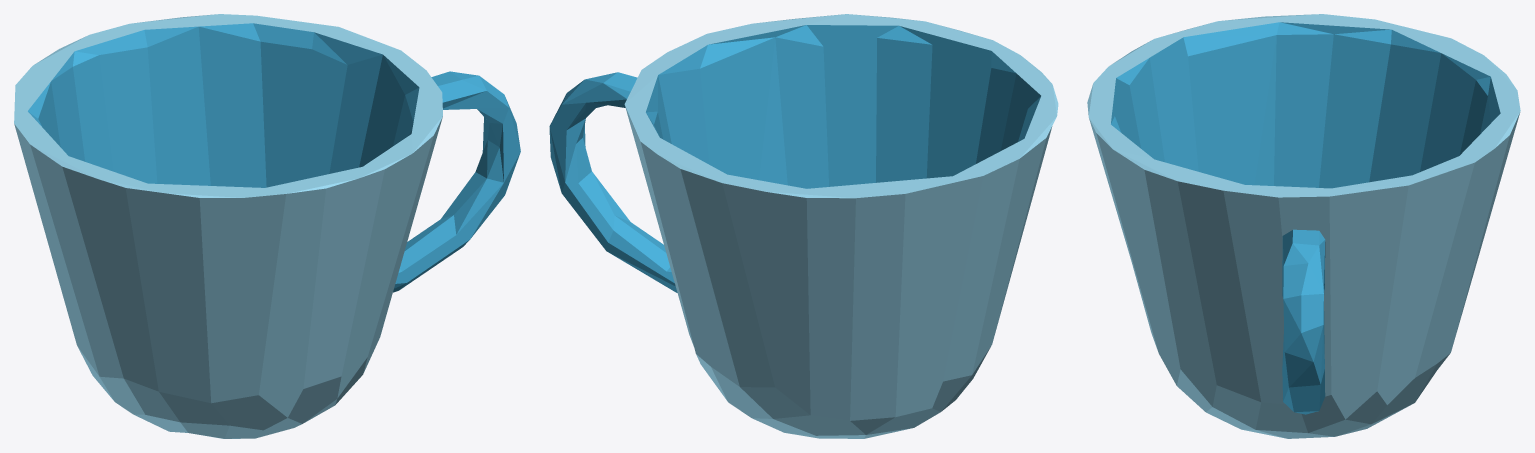
File: Cup02Blue.fbx
The picture shows the model from 3 angles, left to right: view 1: azimuth 30°, elevation 25°; view 2: azimuth 150°, elevation 25°; view 3: azimuth 270°, elevation 25°; orthographic projection.
Parts seen in each view (by area): view 1: Cup02LowPolyBlue; view 2: Cup02LowPolyBlue; view 3: Cup02LowPolyBlue.
Boxes of the visible parts, x1=… form: Cup02LowPolyBlue: x1=14, y1=14, x2=520, y2=438; Cup02LowPolyBlue: x1=549, y1=14, x2=1058, y2=438; Cup02LowPolyBlue: x1=1087, y1=14, x2=1520, y2=438.
Size of the model in its own units: 11.37 by 6.93 by 8.98.
